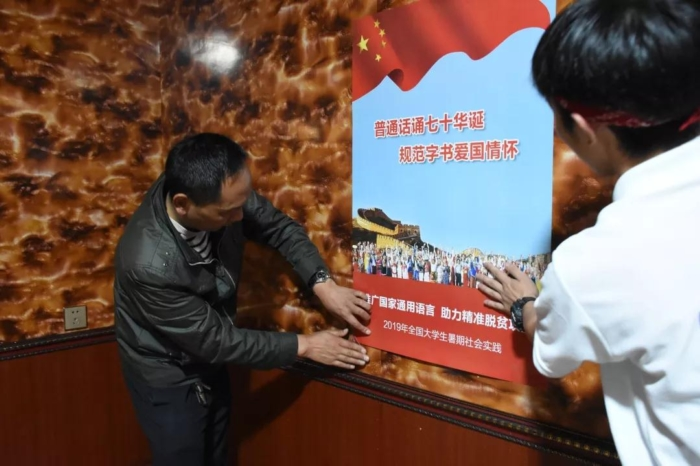bill: (352, 1, 553, 384)
